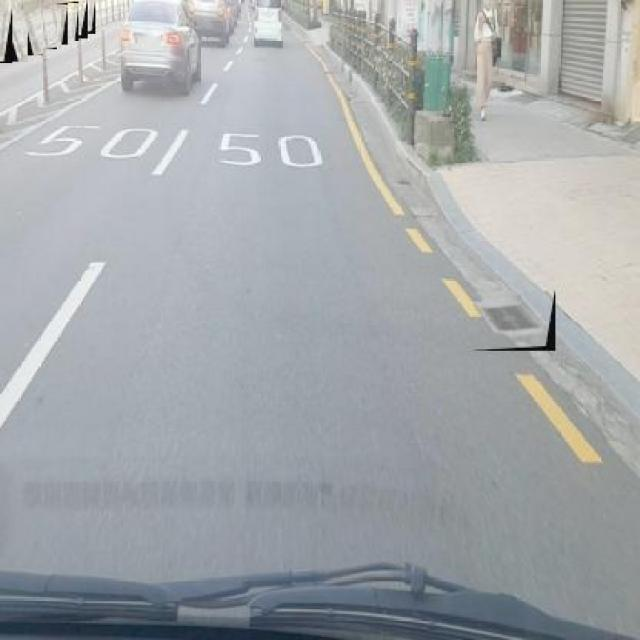Manhole: (474, 291, 556, 351), (3, 10, 28, 62), (22, 5, 44, 56), (37, 3, 57, 49), (51, 3, 68, 45), (0, 8, 12, 63), (62, 2, 78, 40), (74, 0, 88, 38), (82, 0, 95, 34)
